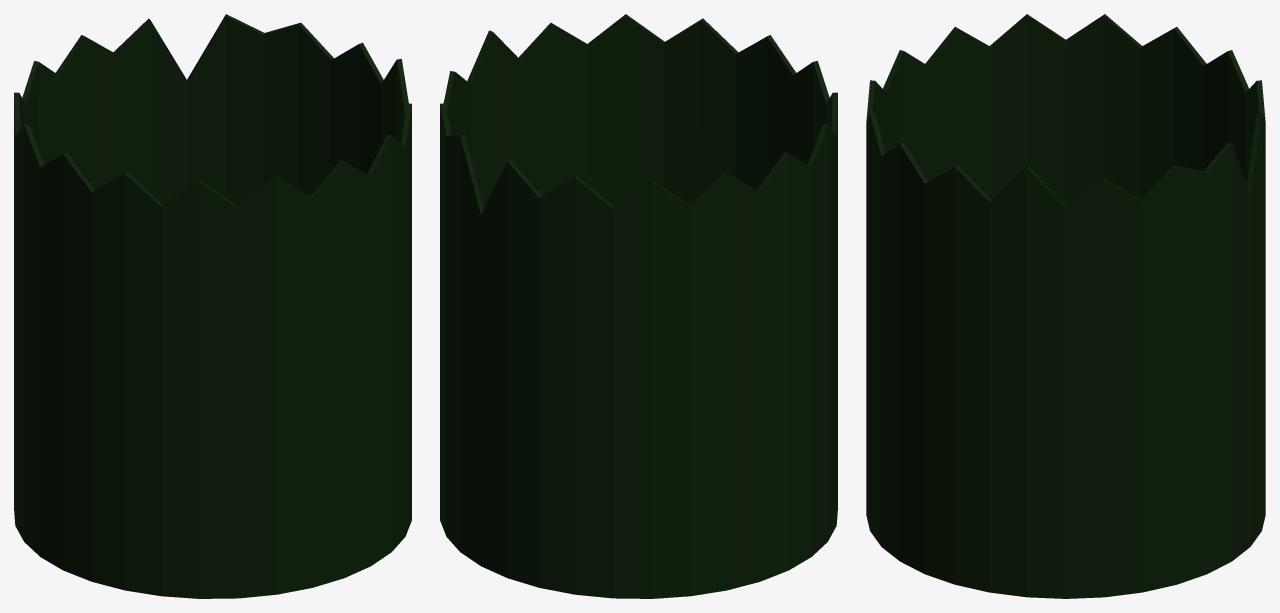
The model's file is Botella_vidrio_1.fbx.
3 views of the same model, side by side, from view 1: azimuth 30°, elevation 25°; view 2: azimuth 150°, elevation 25°; view 3: azimuth 270°, elevation 25° (orthographic).
Visible parts, largest first — view 1: Cilindro; view 2: Cilindro; view 3: Cilindro.
Boxes of the visible parts, <box> form: Cilindro: <box>14,14,411,598</box>; Cilindro: <box>440,14,837,598</box>; Cilindro: <box>866,14,1265,598</box>.
Size of the model in its own units: 7.5 by 8.9 by 7.5.
